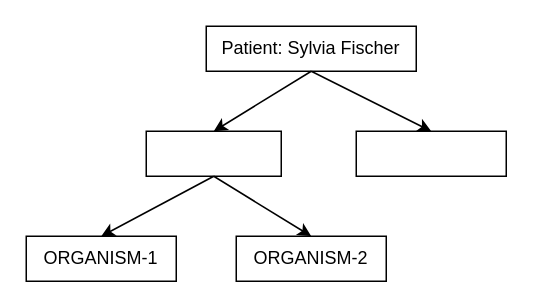
Image size: 533x308. Some labels were removed from this diagram. Each missing label, with the centre of its shape:
CULTURE-1: the point at 213,153
CULTURE-2: the point at 430,153
